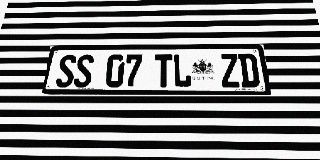0: (105, 54, 125, 87)
7: (123, 54, 143, 87)
D: (238, 53, 260, 87)
L: (173, 54, 192, 87)
S: (55, 55, 77, 87), (73, 55, 94, 87)
T: (154, 54, 173, 87)
Z: (219, 54, 241, 87)
